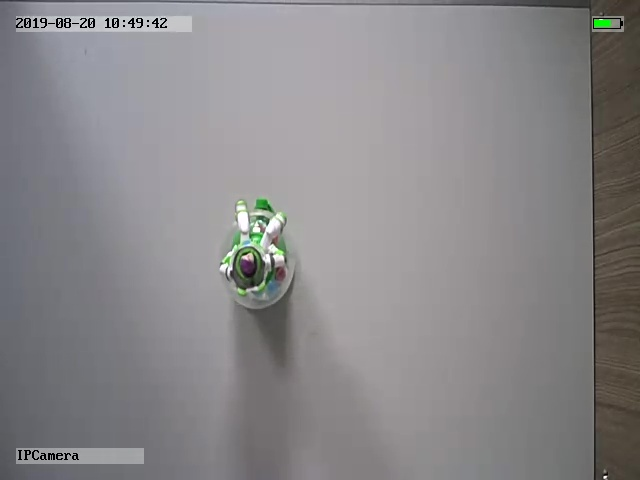buzz: (214, 195, 299, 312)
